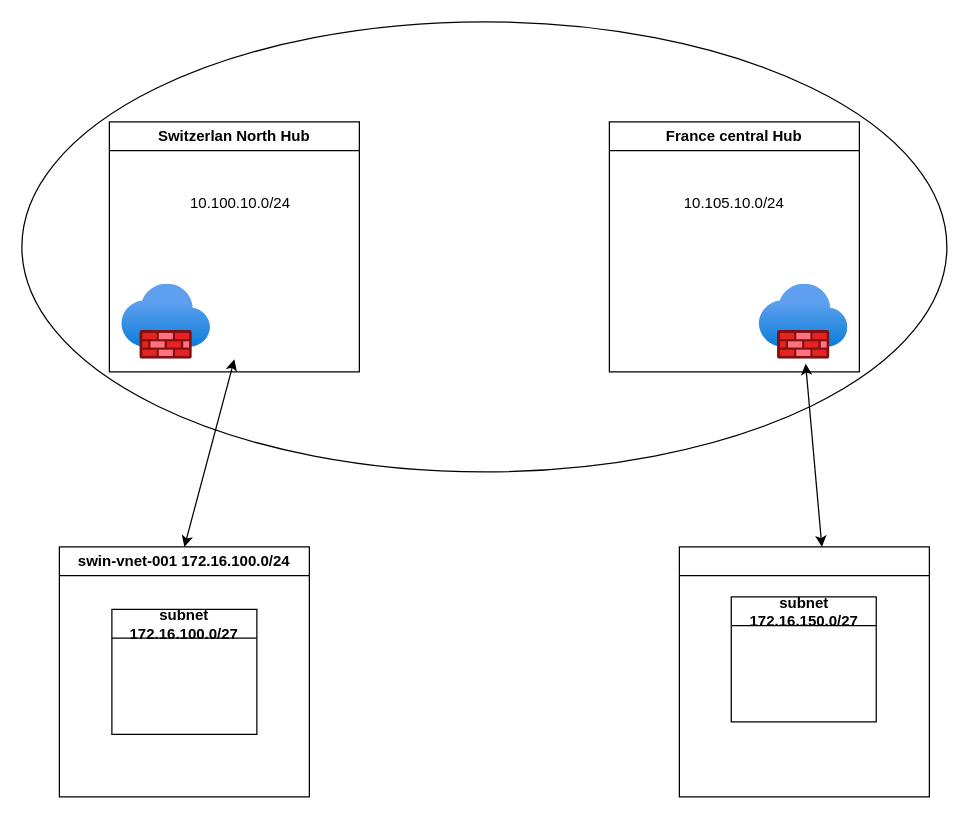
This 969x819 diagram has some shape labels left out. Here are the shapes that lost their labels. From the top down, the box of each, then its label:
(21, 21, 947, 472): vWan
(678, 546, 929, 797): franc-vnet-001 172.16.150.0/24
